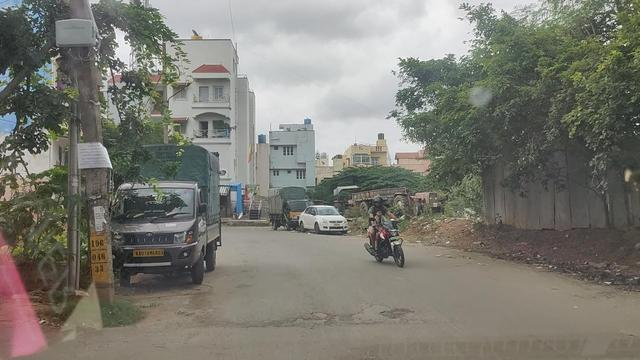LMV: (365, 197, 406, 265)
RoadDamages: (223, 308, 350, 332), (368, 300, 415, 323)
